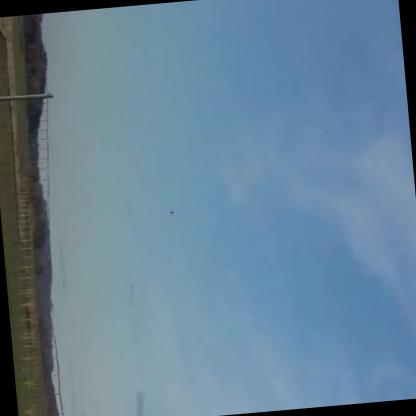plane: (163, 203, 177, 220)
